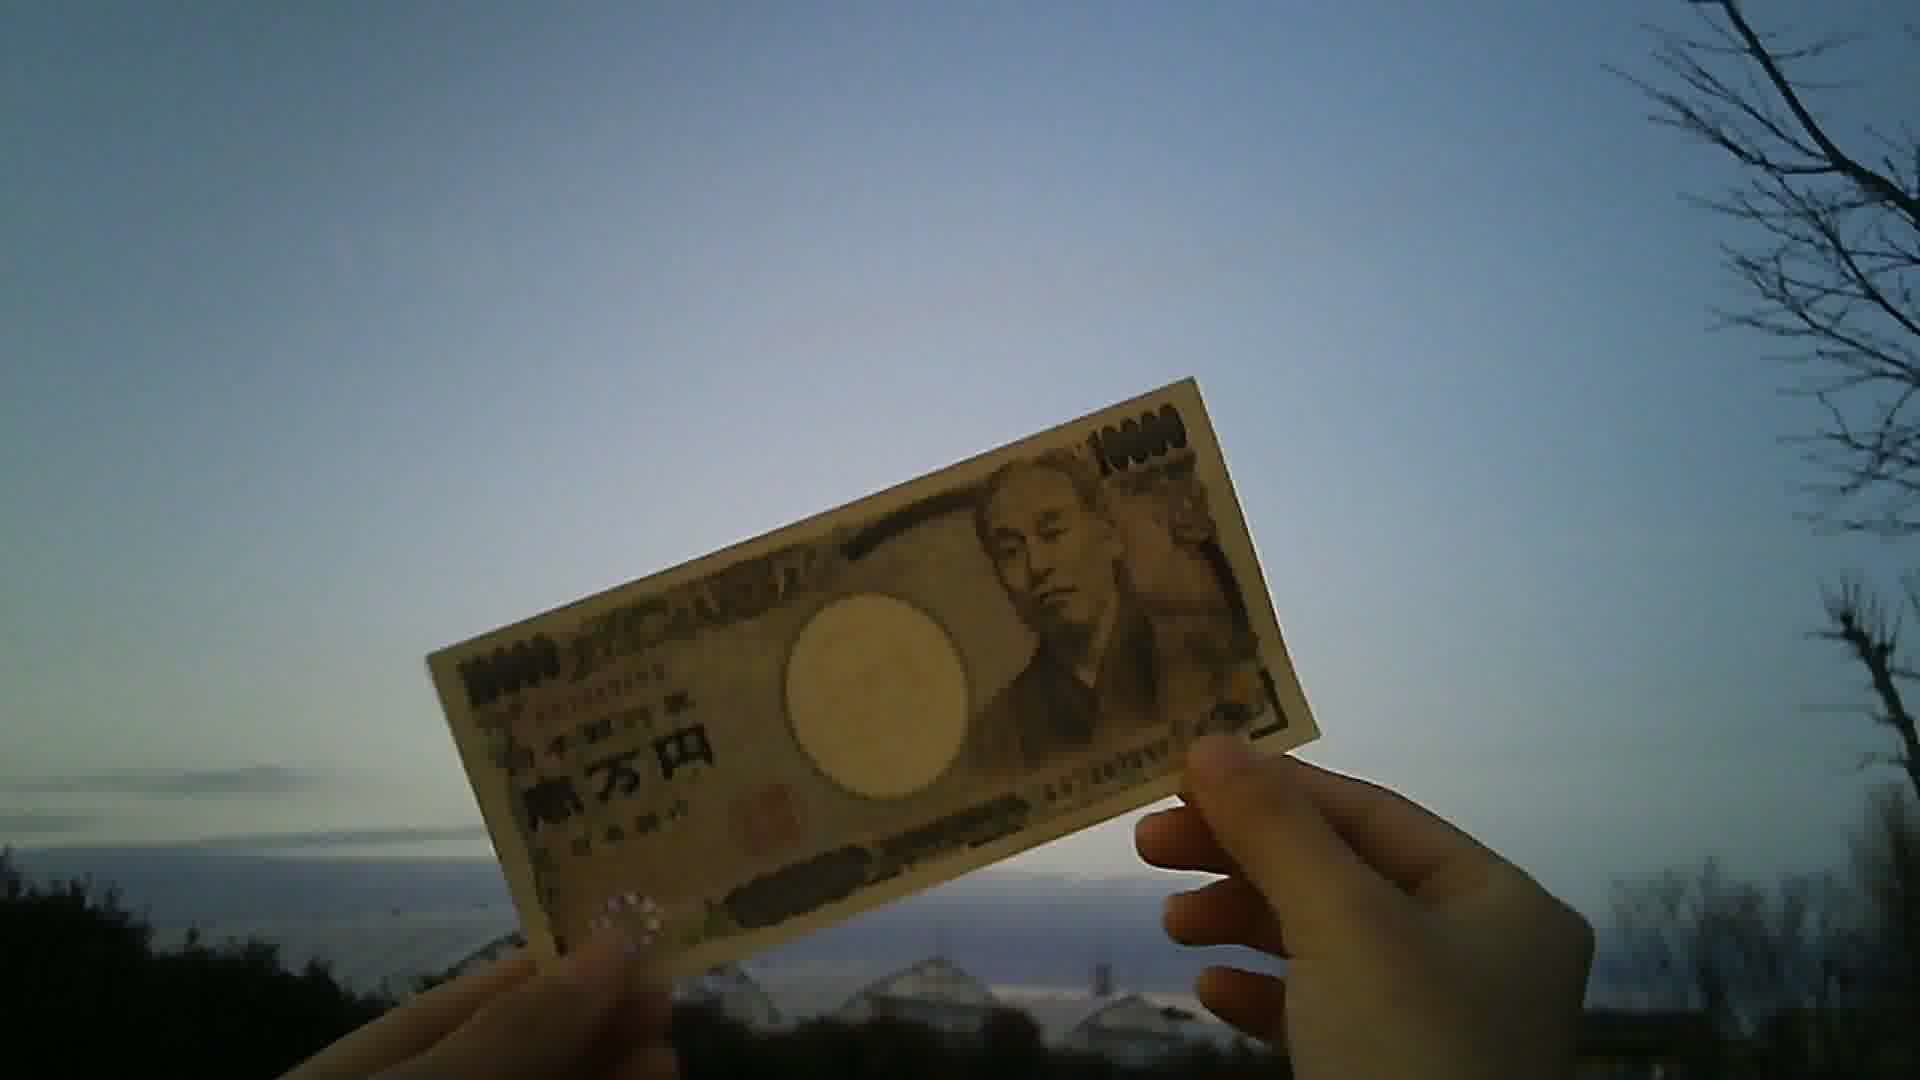10,000 Yen: (423, 378, 1353, 1018)
